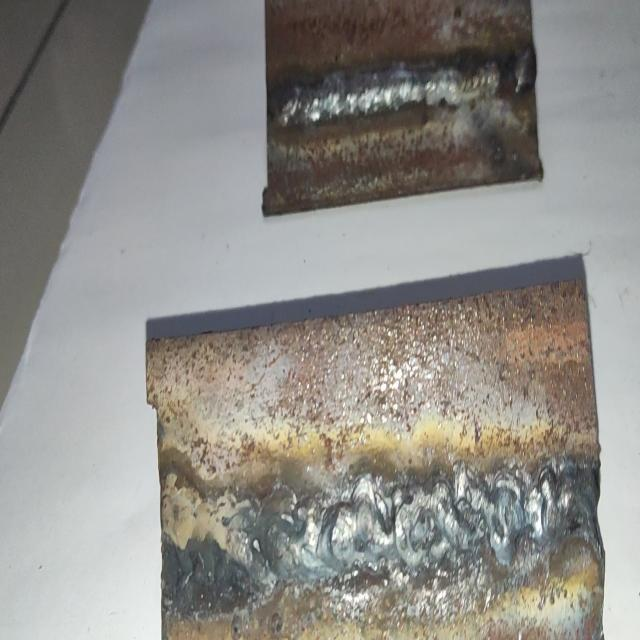Defect: (492, 48, 528, 110)
Welding Line: (272, 464, 594, 578), (273, 46, 536, 126)
Workpiece: (146, 269, 599, 640), (257, 1, 539, 216)
